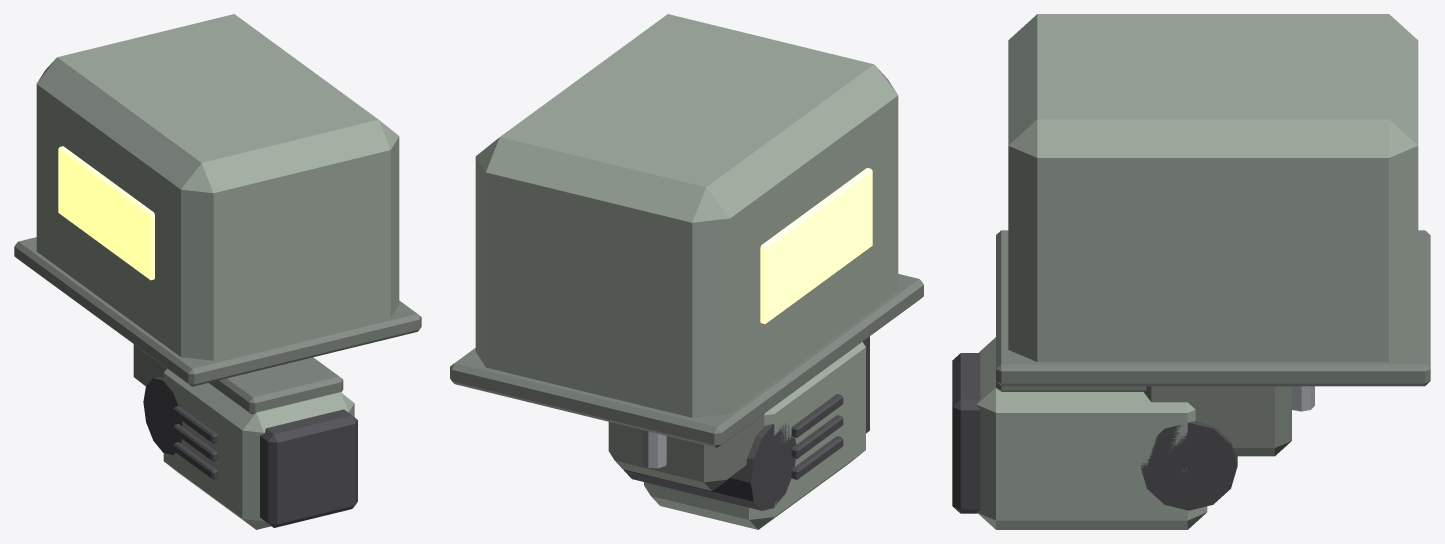
File: heavy-armR.glb
3 views of the same model, side by side, from view 1: azimuth 30°, elevation 25°; view 2: azimuth 150°, elevation 25°; view 3: azimuth 270°, elevation 25° (orthographic). The views are drawn at different scales.
Parts seen in each view (by area): view 1: armR, joint.forearm, joint.pivot; view 2: armR, joint.forearm, joint.pivot; view 3: armR, joint.forearm, joint.pivot.
Boxes of the visible parts, x1=… form: armR: x1=14, y1=14, x2=421, y2=386; joint.forearm: x1=163, y1=357, x2=357, y2=529; joint.pivot: x1=133, y1=344, x2=182, y2=454; armR: x1=450, y1=14, x2=923, y2=447; joint.forearm: x1=644, y1=336, x2=869, y2=529; joint.pivot: x1=608, y1=413, x2=796, y2=510; armR: x1=996, y1=14, x2=1430, y2=386; joint.forearm: x1=952, y1=337, x2=1207, y2=529; joint.pivot: x1=1140, y1=386, x2=1314, y2=510.
Size of the model in its own units: 1.35 by 2.02 by 1.97.
